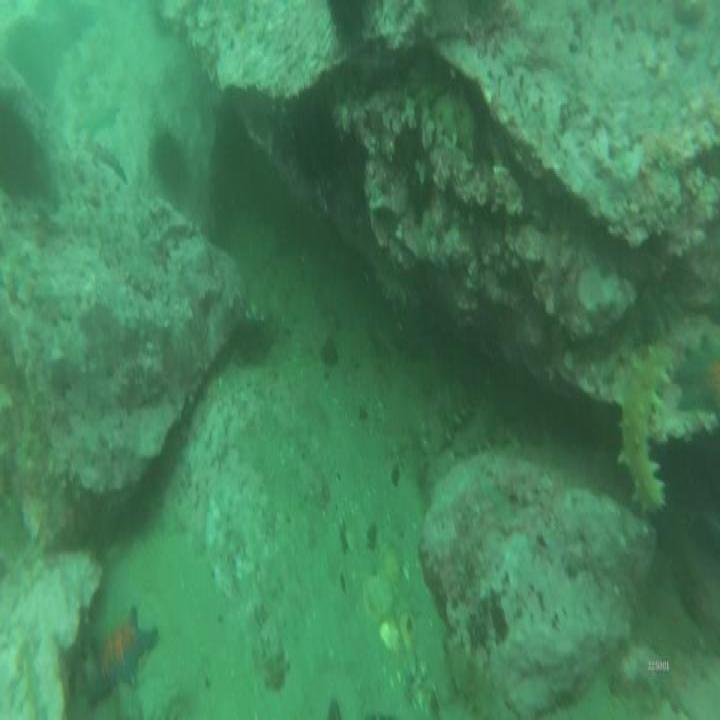echinus: (0, 85, 48, 210), (145, 121, 194, 204), (231, 310, 279, 366), (325, 0, 375, 52)
holothurian: (399, 44, 490, 172), (614, 341, 673, 523), (443, 382, 504, 462), (81, 135, 128, 189)
starfish: (81, 595, 162, 713), (668, 327, 720, 421)
